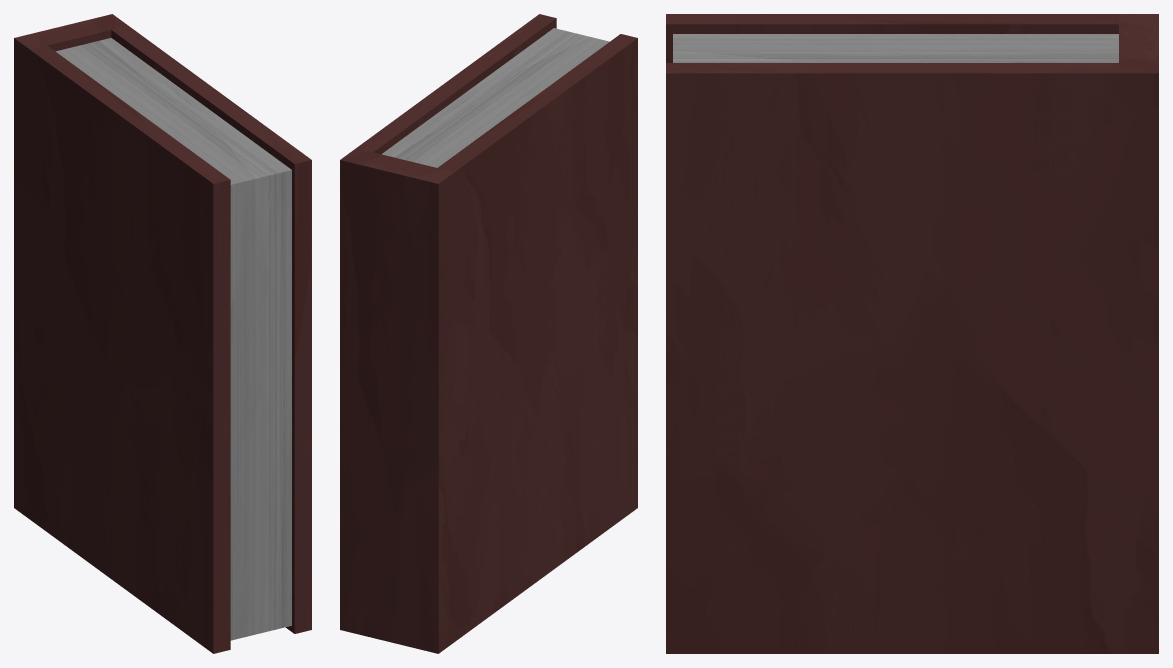
Rendered from M-Book5.fbx.
The picture shows the model from 3 angles, left to right: view 1: azimuth 30°, elevation 25°; view 2: azimuth 150°, elevation 25°; view 3: azimuth 270°, elevation 25°; orthographic projection. The views are drawn at different scales.
Visible parts, largest first — view 1: Cube.001; view 2: Cube.001; view 3: Cube.001.
Boxes of the visible parts, bbox=[...] form: Cube.001: bbox=[14, 14, 311, 653]; Cube.001: bbox=[340, 14, 637, 653]; Cube.001: bbox=[666, 14, 1158, 653].
Size of the model in its own units: 2.78 by 9.74 by 12.67.
1 material, 1 textured.
